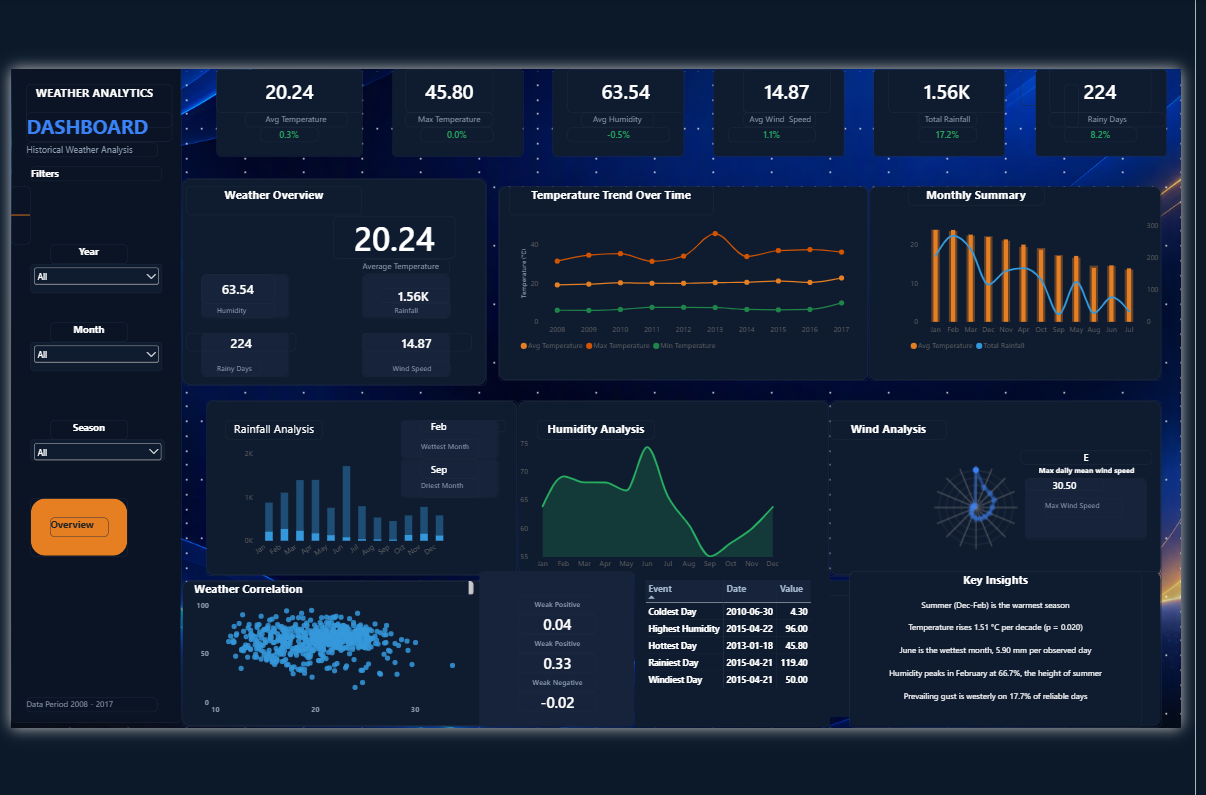

What the dashboard file says about the page in this screenshot:
{"tool":"powerbi","page":{"name":"Page 1","canvas":[1920,1080],"ordinal":0},"visuals":[{"type":"shape","box":[0,-8,280,1080],"z":0},{"type":"textbox","box":[24,24,240,72],"z":1000},{"type":"textbox","box":[24,72,240,48],"z":2000},{"type":"textbox","box":[24,120,216,24],"z":3000},{"type":"shape","box":[0,192,32,96],"z":4000},{"type":"textbox","box":[64,288,128,32],"z":5000},{"type":"slicer","fields":{"Values":["DimDate.Year"]},"box":[32,320,216,48],"z":6000},{"type":"slicer","fields":{"Values":["weather.MonthName"]},"box":[32,448,216,48],"z":7000},{"type":"slicer","fields":{"Values":["weather.Season"]},"box":[32,608,220,35],"z":8000},{"type":"shape","box":[32,704,160,96],"z":9000},{"type":"textbox","box":[64,736,96,32],"z":10000},{"type":"textbox","box":[24,1032,216,24],"z":11000},{"type":"cardVisual","fields":{"Data":["Measures (2).Avg Temperature"]},"box":[1656,0,240,60],"z":12000},{"type":"shape","box":[624,0,216,144],"z":13000},{"type":"cardVisual","fields":{"Data":["Measures (2).Max Temp LY"]},"box":[648,0,144,72],"z":14000},{"type":"textbox","box":[648,72,144,24],"z":15000},{"type":"cardVisual","fields":{"Data":["Measures (2).Max Temp YoY %"]},"box":[672,96,120,24],"z":16000},{"type":"shape","box":[888,0,216,144],"z":17000},{"type":"cardVisual","fields":{"Data":["Measures (2).Humidity YoY %"]},"box":[912,96,168,24],"z":18000},{"type":"textbox","box":[936,72,120,24],"z":19000},{"type":"cardVisual","fields":{"Data":["Measures (2).Avg Humidity"]},"box":[912,0,192,72],"z":20000},{"type":"shape","box":[1152,0,216,144],"z":21000},{"type":"shape","box":[1416,0,216,144],"z":22000},{"type":"cardVisual","fields":{"Data":["Measures (2).Avg Wind Speed"]},"box":[1200,0,144,72],"z":23000},{"type":"cardVisual","fields":{"Data":["Measures (2).Total Rainfall"]},"box":[1440,0,192,72],"z":24000},{"type":"cardVisual","fields":{"Data":["Measures (2).Wind YoY %"]},"box":[1176,96,144,24],"z":25000},{"type":"textbox","box":[1200,72,120,24],"z":26000},{"type":"textbox","box":[1488,72,96,24],"z":27000},{"type":"shape","box":[1680,0,216,144],"z":28000},{"type":"shape","box":[336,0,240,144],"z":29000},{"type":"textbox","box":[1704,72,192,24],"z":30000},{"type":"cardVisual","fields":{"Data":["Measures (2).Rainfall YoY %"]},"box":[1488,96,96,24],"z":31000},{"type":"cardVisual","fields":{"Data":["Measures (2).Rainy Days YoY %"]},"box":[1728,96,120,24],"z":32000},{"type":"cardVisual","fields":{"Data":["Measures (2).Rainy Days"]},"box":[1728,24,24,72],"z":33000},{"type":"cardVisual","fields":{"Data":["Measures (2).Avg Temperature"]},"box":[336,0,240,72],"z":34000},{"type":"cardVisual","fields":{"Data":["Measures (2).Avg Temp YoY %"]},"box":[408,96,96,24],"z":35000},{"type":"textbox","box":[384,72,168,24],"z":36000},{"type":"cardVisual","fields":{"Data":["Measures (2).Rainy Days"]},"box":[1704,0,168,72],"z":37000},{"type":"shape","box":[280,180,500,340],"z":38000},{"type":"textbox","box":[288,192,288,48],"z":39000},{"type":"cardVisual","fields":{"Data":["Measures (2).Avg Temperature"]},"box":[528,240,200,70],"z":40000},{"type":"textbox","box":[576,312,144,24],"z":41000},{"type":"shape","box":[312,336,144,72],"z":42000},{"type":"shape","box":[576,336,144,72],"z":43000},{"type":"shape","box":[312,432,144,72],"z":44000},{"type":"shape","box":[576,432,144,72],"z":45000},{"type":"cardVisual","fields":{"Data":["Measures (2).Avg Humidity"]},"box":[312,336,120,48],"z":46000},{"type":"cardVisual","fields":{"Data":["Measures (2).Total Rainfall"]},"box":[600,360,120,24],"z":47000},{"type":"cardVisual","fields":{"Data":["Measures (2).Avg Wind Speed"]},"box":[576,432,180,30],"z":48000},{"type":"cardVisual","fields":{"Data":["Measures (2).Rainy Days"]},"box":[288,432,180,30],"z":49000},{"type":"textbox","box":[336,384,96,24],"z":50000},{"type":"textbox","box":[624,384,96,24],"z":51000},{"type":"textbox","box":[336,480,72,24],"z":52000},{"type":"textbox","box":[624,480,96,24],"z":53000},{"type":"shape","box":[800,192,608,320],"z":54000},{"type":"textbox","box":[816,192,336,48],"z":55000},{"type":"lineChart","fields":{"Category":["DimDate.Year2"],"Y":["Measures (2).Avg Temperature","Measures (2).Max Temperature","Measures (2).Min Temperature"]},"box":[820,235,580,250],"z":56000},{"type":"shape","box":[1408,192,480,320],"z":57000},{"type":"textbox","box":[1472,192,224,32],"z":58000},{"type":"lineClusteredColumnComboChart","fields":{"Category":["DimDate.Month Name"],"Y":["Measures (2).Avg Temperature"],"Y2":["Measures (2).Total Rainfall"]},"box":[1460,235,440,250],"z":59000},{"type":"shape","box":[320,544,512,288],"z":60000},{"type":"textbox","box":[352,576,160,32],"z":61000},{"type":"clusteredColumnChart","fields":{"Category":["DimDate.Month Name"],"Y":["Measures (2).Total Rainfall"]},"box":[352,608,384,224],"z":62000},{"type":"shape","box":[640,576,160,64],"z":63000},{"type":"cardVisual","fields":{"Data":["Measures (2).Wettest Month Name"]},"box":[672,576,140,20],"z":64000},{"type":"textbox","box":[672,608,96,32],"z":65000},{"type":"shape","box":[640,640,160,64],"z":66000},{"type":"cardVisual","fields":{"Data":["Measures (2).Driest Month Name"]},"box":[672,640,96,32],"z":67000},{"type":"textbox","box":[672,672,96,32],"z":68000},{"type":"shape","box":[832,544,512,288],"z":69000},{"type":"textbox","box":[864,576,192,32],"z":70000},{"type":"areaChart","fields":{"Category":["DimDate.Month Name"],"Y":["Measures (2).Avg Humidity"]},"box":[820,590,460,250],"z":71000},{"type":"shape","box":[1344,544,544,288],"z":72000},{"type":"textbox","box":[1344,576,192,32],"z":73000},{"type":"RadarChart1446119667547","fields":{"Category":["weather.WindDir3pm"],"Y":["Measures (2).Wind Direction Count"]},"box":[1320,600,528,240],"z":74000},{"type":"cardVisual","fields":{"Data":["Measures (2).Dominant Wind"]},"box":[1656,624,216,24],"z":76000},{"type":"shape","box":[1664,672,200,100],"z":77000},{"type":"cardVisual","fields":{"Data":["Measures (2).Max Wind Speed"]},"box":[1664,672,130,20],"z":78000},{"type":"textbox","box":[1696,704,128,32],"z":79000},{"type":"shape","box":[280,840,500,240],"z":80000},{"type":"textbox","box":[300,840,460,25],"z":81000},{"type":"scatterChart","fields":{"X":["weather.TempMean"],"Y":["weather.HumidityAvg"]},"box":[288,856,480,224],"z":82000},{"type":"shape","box":[768,824,256,256],"z":83000},{"type":"cardVisual","fields":{"Data":["Measures (2).Corr Temp Humidity"]},"box":[832,896,130,30],"z":84000},{"type":"cardVisual","fields":{"Data":["Measures (2).Corr Temp Humidity Label"]},"box":[832,864,130,30],"z":85000},{"type":"cardVisual","fields":{"Data":["Measures (2).Corr Humidity Rainfall"]},"box":[832,960,130,30],"z":86000},{"type":"cardVisual","fields":{"Data":["Measures (2).Corr Humidity Rainfall Label"]},"box":[832,928,130,30],"z":87000},{"type":"cardVisual","fields":{"Data":["Measures (2).Corr Temp Wind"]},"box":[832,1024,130,30],"z":88000},{"type":"cardVisual","fields":{"Data":["Measures (2).Corr Temp Wind Label"]},"box":[832,992,130,30],"z":89000},{"type":"shape","box":[1032,840,384,224],"z":90000},{"type":"textbox","box":[1120,832,288,32],"z":91000},{"type":"tableEx","fields":{"Values":["ExtremeEvents.Event","ExtremeEvents.Date Text","ExtremeEvents.Value"]},"box":[1024,824,320,256],"z":92000},{"type":"shape","box":[1376,824,512,256],"z":93000},{"type":"textbox","box":[1376,824,480,256],"z":94000},{"type":"textbox","box":[32,160,216,24],"z":95000},{"type":"textbox","box":[64,576,128,32],"z":96000},{"type":"textbox","box":[64,416,128,32],"z":97000},{"type":"textbox","box":[1680,648,168,24],"z":99000}]}

Visuals, with their boxes on the page's 1920x1080 design canvas (x1, y1, x2, y2). These are canvas units, not pixel positions in the 1206x795 screenshot, which may show the page scaled, cropped or inside an application window:
shape: [0, -8, 280, 1072]
textbox: [24, 24, 264, 96]
textbox: [24, 72, 264, 120]
textbox: [24, 120, 240, 144]
shape: [0, 192, 32, 288]
textbox: [64, 288, 192, 320]
slicer - DimDate.Year: [32, 320, 248, 368]
slicer - weather.MonthName: [32, 448, 248, 496]
slicer - weather.Season: [32, 608, 252, 643]
shape: [32, 704, 192, 800]
textbox: [64, 736, 160, 768]
textbox: [24, 1032, 240, 1056]
cardVisual - Measures (2).Avg Temperature: [1656, 0, 1896, 60]
shape: [624, 0, 840, 144]
cardVisual - Measures (2).Max Temp LY: [648, 0, 792, 72]
textbox: [648, 72, 792, 96]
cardVisual - Measures (2).Max Temp YoY %: [672, 96, 792, 120]
shape: [888, 0, 1104, 144]
cardVisual - Measures (2).Humidity YoY %: [912, 96, 1080, 120]
textbox: [936, 72, 1056, 96]
cardVisual - Measures (2).Avg Humidity: [912, 0, 1104, 72]
shape: [1152, 0, 1368, 144]
shape: [1416, 0, 1632, 144]
cardVisual - Measures (2).Avg Wind Speed: [1200, 0, 1344, 72]
cardVisual - Measures (2).Total Rainfall: [1440, 0, 1632, 72]
cardVisual - Measures (2).Wind YoY %: [1176, 96, 1320, 120]
textbox: [1200, 72, 1320, 96]
textbox: [1488, 72, 1584, 96]
shape: [1680, 0, 1896, 144]
shape: [336, 0, 576, 144]
textbox: [1704, 72, 1896, 96]
cardVisual - Measures (2).Rainfall YoY %: [1488, 96, 1584, 120]
cardVisual - Measures (2).Rainy Days YoY %: [1728, 96, 1848, 120]
cardVisual - Measures (2).Rainy Days: [1728, 24, 1752, 96]
cardVisual - Measures (2).Avg Temperature: [336, 0, 576, 72]
cardVisual - Measures (2).Avg Temp YoY %: [408, 96, 504, 120]
textbox: [384, 72, 552, 96]
cardVisual - Measures (2).Rainy Days: [1704, 0, 1872, 72]
shape: [280, 180, 780, 520]
textbox: [288, 192, 576, 240]
cardVisual - Measures (2).Avg Temperature: [528, 240, 728, 310]
textbox: [576, 312, 720, 336]
shape: [312, 336, 456, 408]
shape: [576, 336, 720, 408]
shape: [312, 432, 456, 504]
shape: [576, 432, 720, 504]
cardVisual - Measures (2).Avg Humidity: [312, 336, 432, 384]
cardVisual - Measures (2).Total Rainfall: [600, 360, 720, 384]
cardVisual - Measures (2).Avg Wind Speed: [576, 432, 756, 462]
cardVisual - Measures (2).Rainy Days: [288, 432, 468, 462]
textbox: [336, 384, 432, 408]
textbox: [624, 384, 720, 408]
textbox: [336, 480, 408, 504]
textbox: [624, 480, 720, 504]
shape: [800, 192, 1408, 512]
textbox: [816, 192, 1152, 240]
lineChart - DimDate.Year2 x Measures (2).Avg Temperature: [820, 235, 1400, 485]
shape: [1408, 192, 1888, 512]
textbox: [1472, 192, 1696, 224]
lineClusteredColumnComboChart - DimDate.Month Name x Measures (2).Avg Temperature: [1460, 235, 1900, 485]
shape: [320, 544, 832, 832]
textbox: [352, 576, 512, 608]
clusteredColumnChart - DimDate.Month Name x Measures (2).Total Rainfall: [352, 608, 736, 832]
shape: [640, 576, 800, 640]
cardVisual - Measures (2).Wettest Month Name: [672, 576, 812, 596]
textbox: [672, 608, 768, 640]
shape: [640, 640, 800, 704]
cardVisual - Measures (2).Driest Month Name: [672, 640, 768, 672]
textbox: [672, 672, 768, 704]
shape: [832, 544, 1344, 832]
textbox: [864, 576, 1056, 608]
areaChart - DimDate.Month Name x Measures (2).Avg Humidity: [820, 590, 1280, 840]
shape: [1344, 544, 1888, 832]
textbox: [1344, 576, 1536, 608]
RadarChart1446119667547 - weather.WindDir3pm x Measures (2).Wind Direction Count: [1320, 600, 1848, 840]
cardVisual - Measures (2).Dominant Wind: [1656, 624, 1872, 648]
shape: [1664, 672, 1864, 772]
cardVisual - Measures (2).Max Wind Speed: [1664, 672, 1794, 692]
textbox: [1696, 704, 1824, 736]
shape: [280, 840, 780, 1080]
textbox: [300, 840, 760, 865]
scatterChart - weather.TempMean x weather.HumidityAvg: [288, 856, 768, 1080]
shape: [768, 824, 1024, 1080]
cardVisual - Measures (2).Corr Temp Humidity: [832, 896, 962, 926]
cardVisual - Measures (2).Corr Temp Humidity Label: [832, 864, 962, 894]
cardVisual - Measures (2).Corr Humidity Rainfall: [832, 960, 962, 990]
cardVisual - Measures (2).Corr Humidity Rainfall Label: [832, 928, 962, 958]
cardVisual - Measures (2).Corr Temp Wind: [832, 1024, 962, 1054]
cardVisual - Measures (2).Corr Temp Wind Label: [832, 992, 962, 1022]
shape: [1032, 840, 1416, 1064]
textbox: [1120, 832, 1408, 864]
tableEx - ExtremeEvents.Event x ExtremeEvents.Date Text: [1024, 824, 1344, 1080]
shape: [1376, 824, 1888, 1080]
textbox: [1376, 824, 1856, 1080]
textbox: [32, 160, 248, 184]
textbox: [64, 576, 192, 608]
textbox: [64, 416, 192, 448]
textbox: [1680, 648, 1848, 672]
